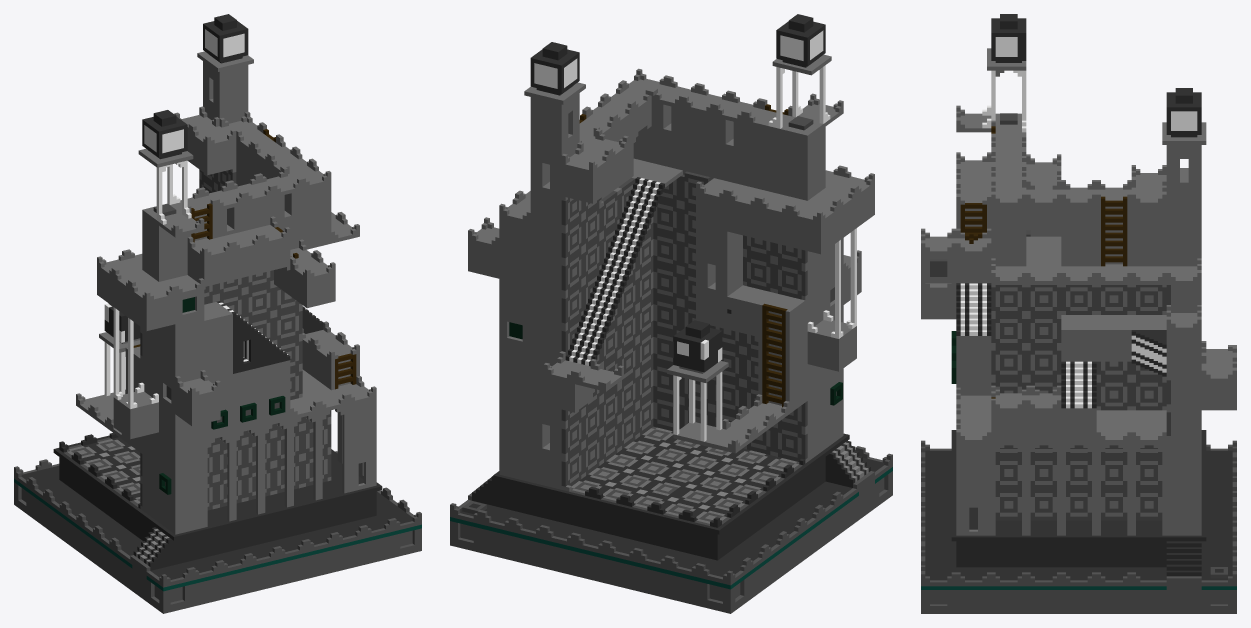
The model's file is land-0.obj.
The picture shows the model from 3 angles, left to right: view 1: azimuth 30°, elevation 25°; view 2: azimuth 150°, elevation 25°; view 3: azimuth 270°, elevation 25°; orthographic projection. The views are drawn at different scales.
Size of the model in its own units: 7.2 by 12.2 by 7.2.
Materials: 1 (1 with a texture image).
